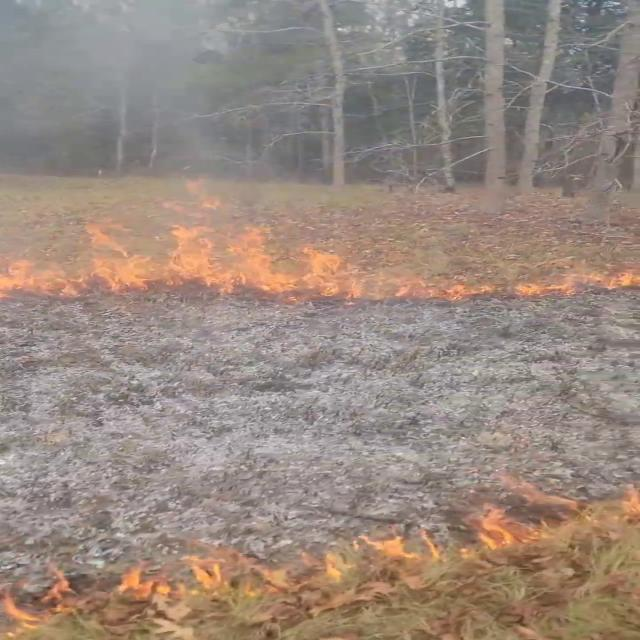Fire: (87, 507, 541, 618), (0, 204, 364, 297)
Smoke: (1, 0, 304, 228)
